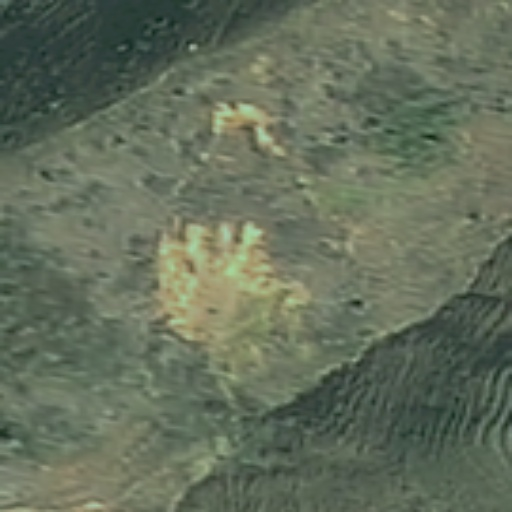landslide: (147, 213, 296, 351)
